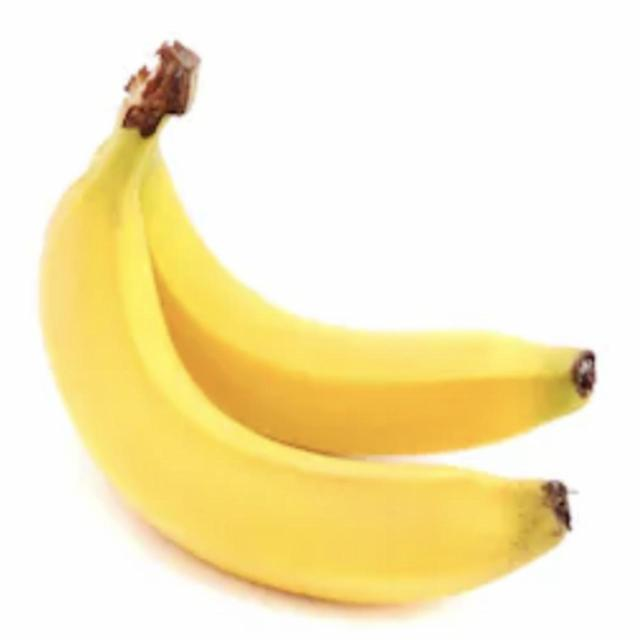banana: (26, 118, 588, 638)
